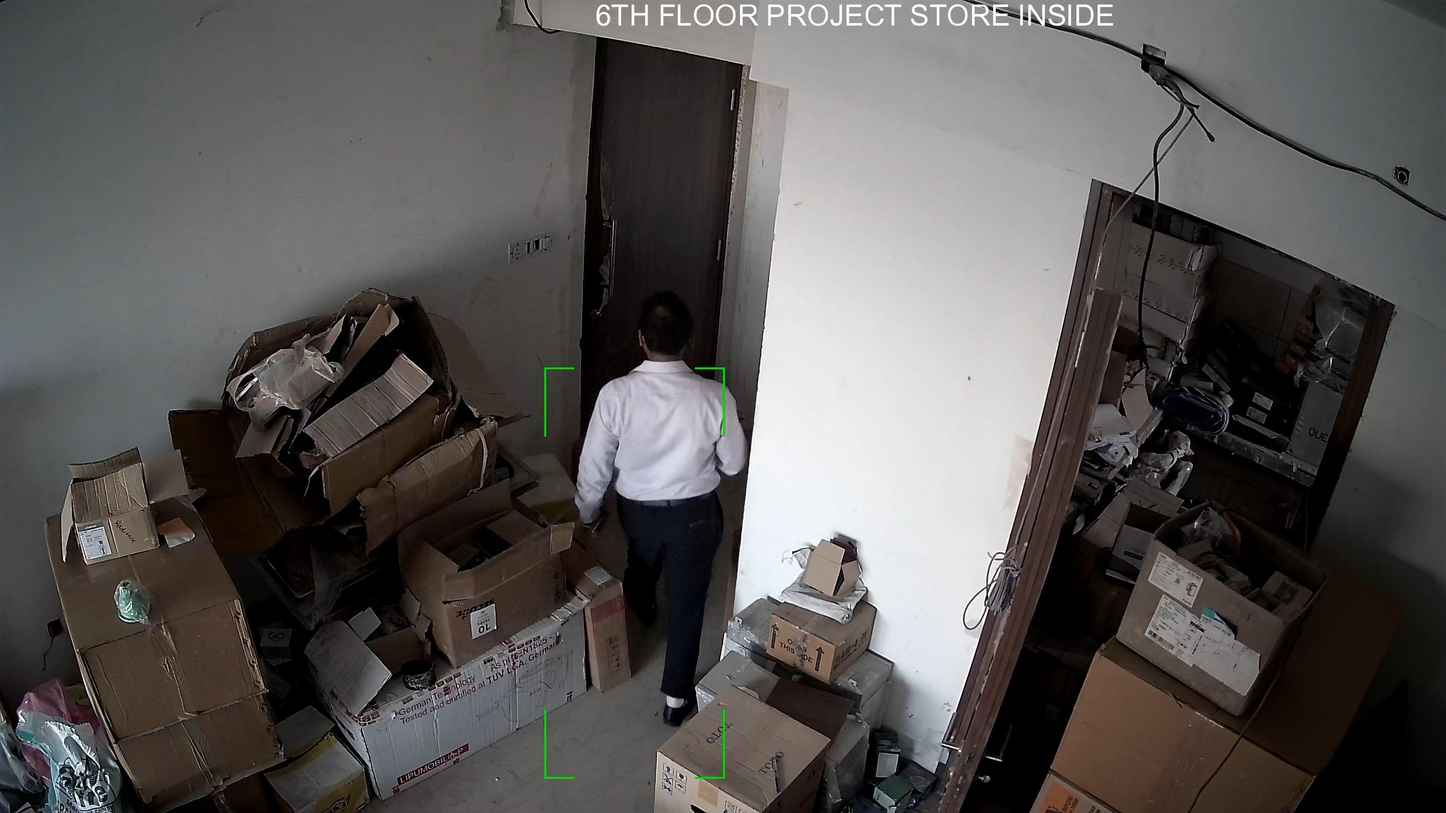Door-Close: (557, 35, 756, 443)
